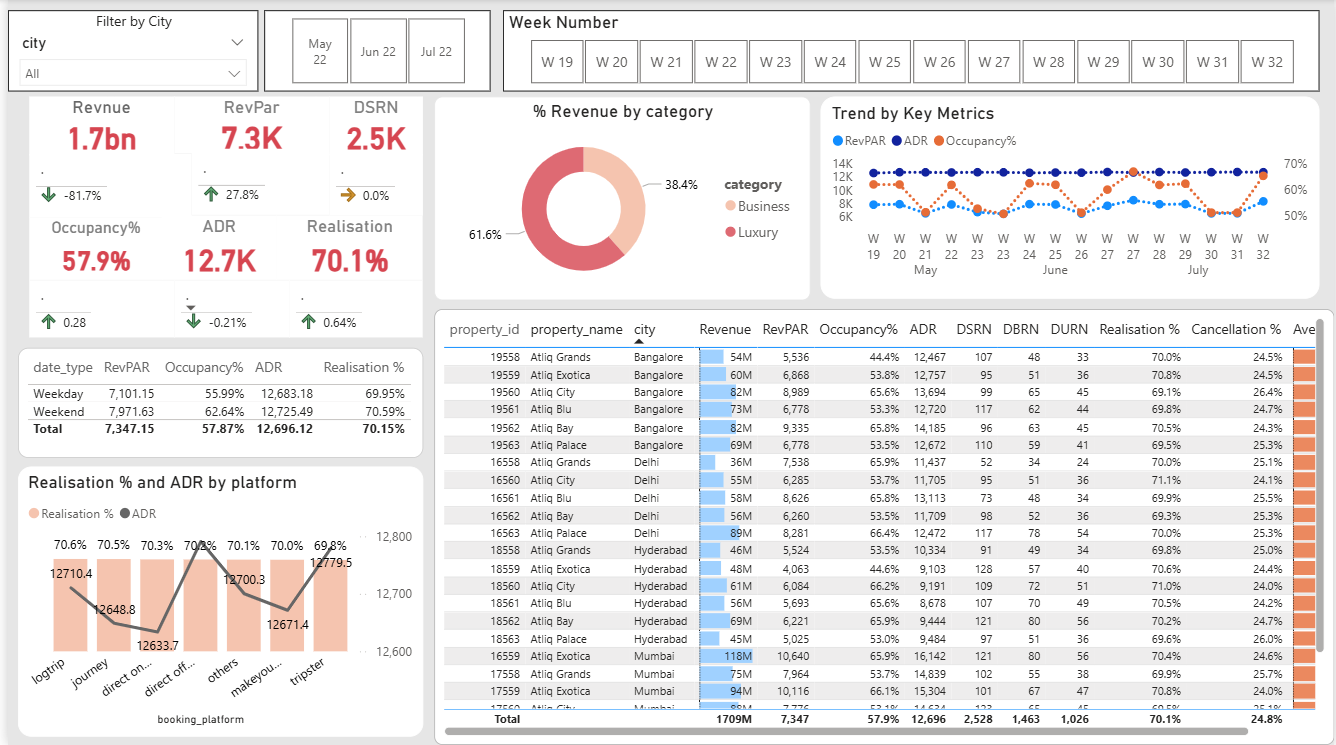

The page's visual inventory and layout, read from the dashboard file:
{"tool":"powerbi","page":{"name":"Home","canvas":[1280,720],"ordinal":0},"visuals":[{"type":"tableEx","fields":{"Values":["dim_hotel.property_id","dim_hotel.property_name","dim_hotel.city","Key_measures.Revenue","Key_measures.RevPAR","Key_measures.Occupancy%","Key_measures.ADR","Key_measures.DSRN","Key_measures.DBRN","Key_measures.DURN","Key_measures.Realisation %","Key_measures.Cancellation %"]},"box":[411.4,299.2,868.6,421],"z":0},{"type":"slicer","title":"Filter by City","fields":{"Values":["dim_hotel.city"]},"box":[0,10.9,241.3,78.4],"z":1000},{"type":"slicer","title":"Filter by City","fields":{"Values":["dim_date.mmm yy"]},"box":[247.3,10.9,218.4,78.4],"z":2000},{"type":"slicer","title":"Week Number","fields":{"Values":["dim_date.wn"]},"box":[477.8,10.9,787.8,78.4],"z":3000},{"type":"card","title":"Revnue","fields":{"Values":["Key_measures.Revenue"]},"box":[20.5,94.1,139.9,56.7],"z":4000},{"type":"card","title":"ADR","fields":{"Values":["Key_measures.ADR"]},"box":[148.4,208.7,111,62.7],"z":5000},{"type":"card","title":"DSRN","fields":{"Values":["Key_measures.DSRN"]},"box":[310.1,94.1,90.5,56.7],"z":6000},{"type":"card","title":"RevPar","fields":{"Values":["Key_measures.RevPAR"]},"box":[160.5,94.1,149.6,55.5],"z":7000},{"type":"card","title":"Occupancy%","fields":{"Values":["Key_measures.Occupancy%"]},"box":[20.5,211.1,129.1,60.3],"z":8000},{"type":"tableEx","fields":{"Values":["Key_measures.Occupancy WoW change %"]},"box":[20.5,271.4,139.9,55.5],"z":9000},{"type":"card","title":"Realisation","fields":{"Values":["Key_measures.Realisation %"]},"box":[259.4,208.7,141.2,62.7],"z":10000},{"type":"tableEx","fields":{"Values":["Key_measures.Revenue WoW change %"]},"box":[20.5,149.6,156.8,61.5],"z":11000},{"type":"tableEx","fields":{"Values":["Key_measures.Revpar WoW change %"]},"box":[177.3,148.4,132.7,60.3],"z":12000},{"type":"tableEx","fields":{"Values":["Key_measures.DSRN WoW change %"]},"box":[310.1,149.6,90.5,59.1],"z":13000},{"type":"tableEx","fields":{"Values":["Key_measures.ADR WoW change %"]},"box":[160.5,271.4,111,55.5],"z":14000},{"type":"tableEx","fields":{"Values":["Key_measures.Realisation WoW change %"]},"box":[271.4,271.4,129.1,55.5],"z":15000},{"type":"tableEx","fields":{"Values":["dim_date.date_type","Key_measures.RevPAR","Key_measures.Occupancy%","Key_measures.ADR","Key_measures.Realisation %"]},"box":[9.7,336.6,390.9,106.2],"z":16000},{"type":"donutChart","title":"% Revenue by category","fields":{"Y":["Key_measures.Revenue"],"Series":["dim_hotel.category"]},"box":[411.4,94.1,363.1,196.6],"z":17000},{"type":"lineChart","title":"Trend by Key Metrics","fields":{"Y":["Key_measures.RevPAR","Key_measures.ADR"],"Category":["dim_date.mmm yy.Variation.Date Hierarchy.Month","dim_date.week no"],"Y2":["Key_measures.Occupancy%"]},"box":[784.2,94.1,481.4,195.4],"z":18000},{"type":"lineStackedColumnComboChart","title":"Realisation % and ADR by platform","fields":{"Category":["fact_bookings.booking_platform"],"Y2":["Key_measures.ADR"],"Y":["Key_measures.Realisation %"]},"box":[9.7,451.2,390.9,260.6],"z":19000}]}

Visuals, with their boxes in screenshot pixels (x1, y1, x2, y2), scaled from the page's 1280x720 canvas onto the 1336x745 screenshot:
tableEx - dim_hotel.property_id x dim_hotel.property_name: Rect(429, 310, 1335, 744)
"Filter by City" slicer: Rect(0, 11, 252, 92)
"Filter by City" slicer: Rect(258, 11, 486, 92)
"Week Number" slicer: Rect(499, 11, 1321, 92)
"Revnue" card: Rect(21, 97, 167, 156)
"ADR" card: Rect(155, 216, 271, 281)
"DSRN" card: Rect(324, 97, 418, 156)
"RevPar" card: Rect(168, 97, 324, 155)
"Occupancy%" card: Rect(21, 218, 156, 281)
tableEx - Key_measures.Occupancy WoW change %: Rect(21, 281, 167, 338)
"Realisation" card: Rect(271, 216, 418, 281)
tableEx - Key_measures.Revenue WoW change %: Rect(21, 155, 185, 218)
tableEx - Key_measures.Revpar WoW change %: Rect(185, 154, 324, 216)
tableEx - Key_measures.DSRN WoW change %: Rect(324, 155, 418, 216)
tableEx - Key_measures.ADR WoW change %: Rect(168, 281, 283, 338)
tableEx - Key_measures.Realisation WoW change %: Rect(283, 281, 418, 338)
tableEx - dim_date.date_type x Key_measures.RevPAR: Rect(10, 348, 418, 458)
"% Revenue by category" donutChart: Rect(429, 97, 808, 301)
"Trend by Key Metrics" lineChart: Rect(819, 97, 1321, 300)
"Realisation % and ADR by platform" lineStackedColumnComboChart: Rect(10, 467, 418, 737)
